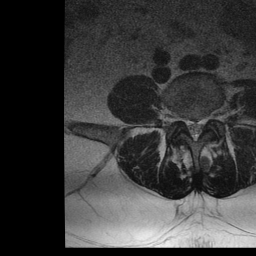CCS_normal: (192, 113, 198, 145)
LFS_stenosis: (205, 105, 213, 128)
LLS_normal: (199, 113, 205, 136)
RFS_severe_stenosis: (175, 107, 183, 129)
RLS_normal: (184, 113, 192, 137)
